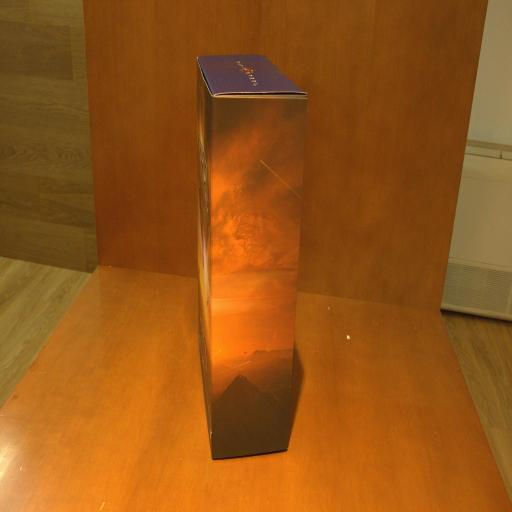superman: (196, 54, 308, 462)
